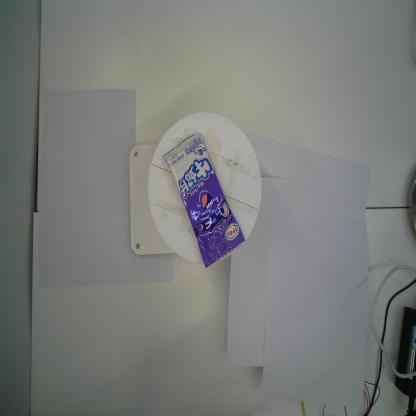Candy: (162, 133, 246, 269)
